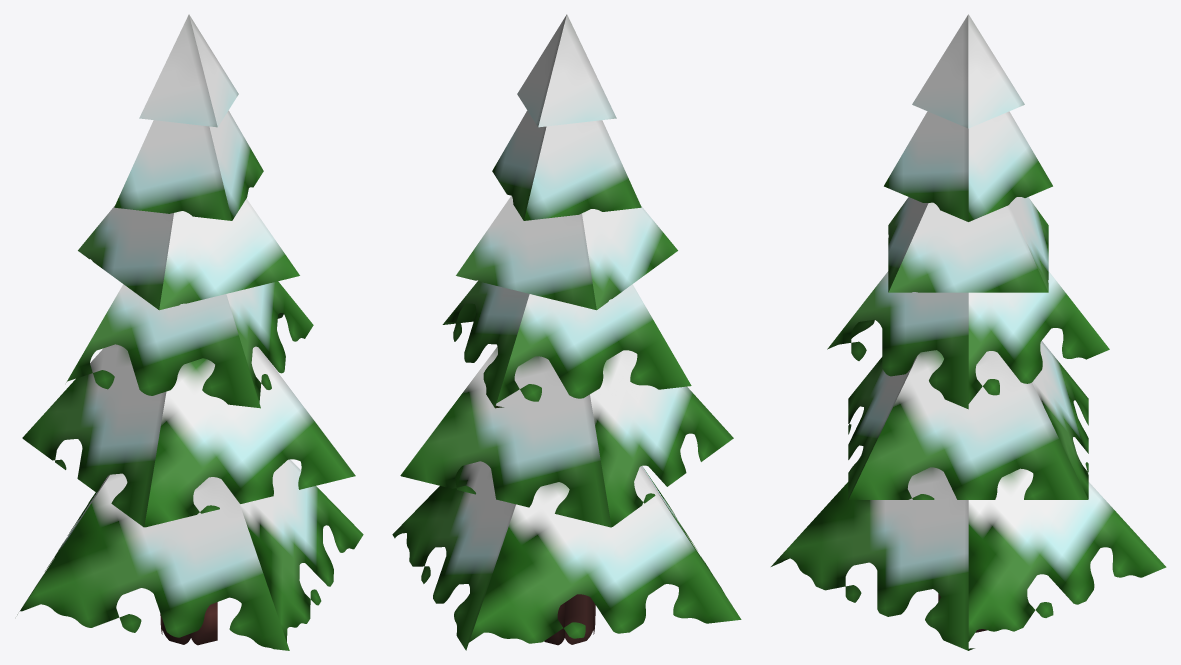
The model's file is Tree.obj.
3 renders of one model, left to right at view 1: azimuth 30°, elevation 25°; view 2: azimuth 150°, elevation 25°; view 3: azimuth 270°, elevation 25°, orthographic.
Visible parts, largest first — view 1: 1st, 2nd, 3rd, 4th, 5th, 6th, Stem; view 2: 1st, 2nd, 3rd, 4th, 5th, 6th, Stem; view 3: 1st, 2nd, 3rd, 4th, 5th, 6th.
Boxes of the visible parts, left/top/right/bottom form: 1st: left=17, top=459, right=363, bottom=650; 2nd: left=22, top=344, right=355, bottom=527; 3rd: left=66, top=281, right=313, bottom=408; 4th: left=78, top=199, right=299, bottom=310; 5th: left=114, top=110, right=263, bottom=220; 6th: left=139, top=14, right=238, bottom=127; Stem: left=160, top=602, right=217, bottom=645; 1st: left=392, top=461, right=741, bottom=650; 2nd: left=400, top=346, right=733, bottom=527; 3rd: left=442, top=280, right=691, bottom=408; 4th: left=456, top=195, right=677, bottom=310; 5th: left=492, top=110, right=641, bottom=220; 6th: left=517, top=14, right=616, bottom=127; Stem: left=544, top=594, right=595, bottom=645; 1st: left=771, top=467, right=1166, bottom=650; 2nd: left=848, top=341, right=1088, bottom=499; 3rd: left=827, top=271, right=1109, bottom=409; 4th: left=888, top=197, right=1048, bottom=292; 5th: left=884, top=111, right=1052, bottom=221; 6th: left=912, top=14, right=1024, bottom=128.
Bounding box in the file's own units: 1.24 × 2.09 × 1.24.
Materials: 1 (1 with a texture image).
